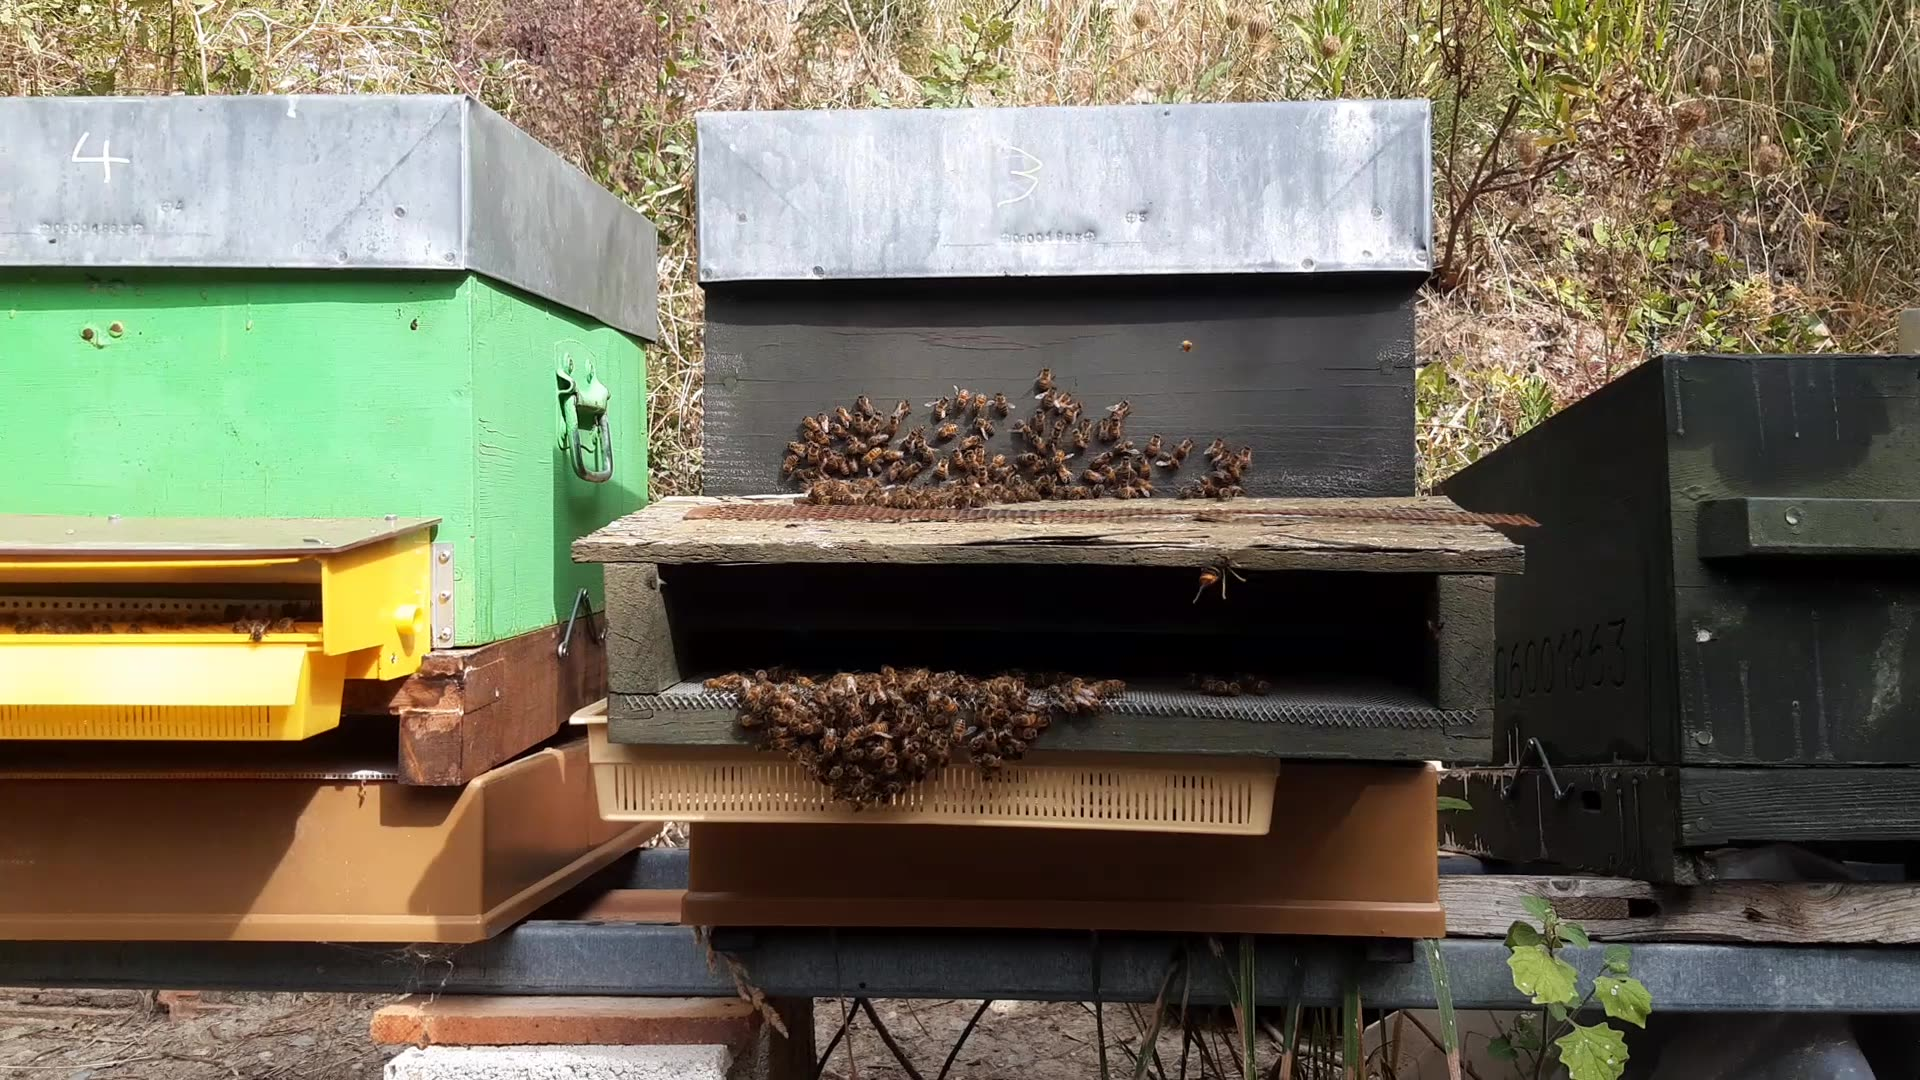bee: (828, 742, 903, 824), (960, 746, 1019, 819), (1168, 447, 1247, 498), (760, 740, 823, 800), (1027, 456, 1095, 509), (717, 675, 786, 727), (943, 454, 1009, 506), (1040, 389, 1100, 440), (829, 458, 891, 502), (829, 404, 887, 451), (938, 392, 998, 434), (1175, 564, 1228, 609)
